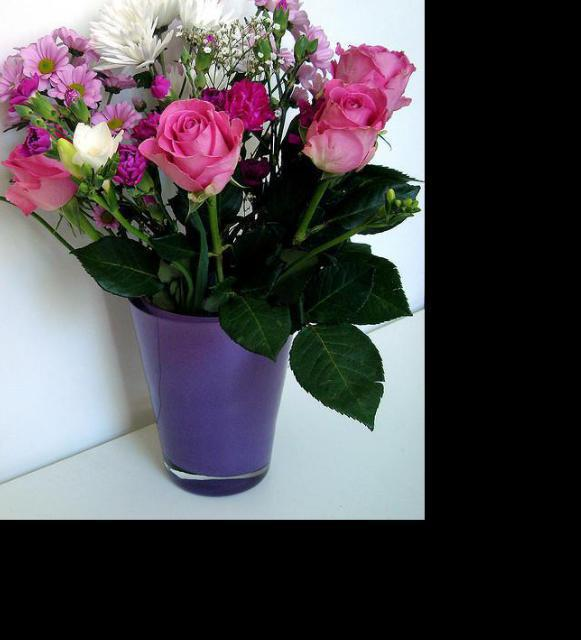Matera: (0, 0, 410, 496)
